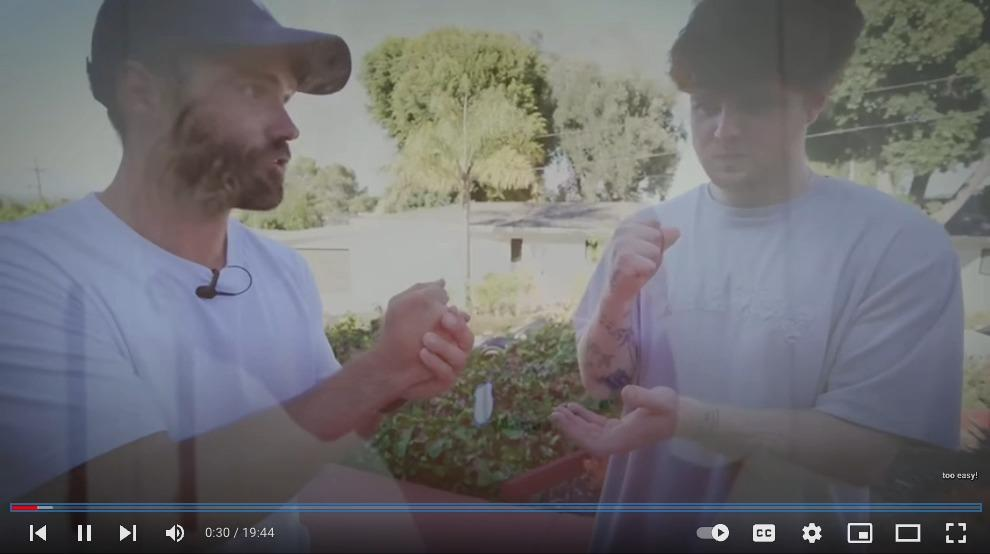Rock: (379, 277, 454, 397), (607, 208, 682, 294)
